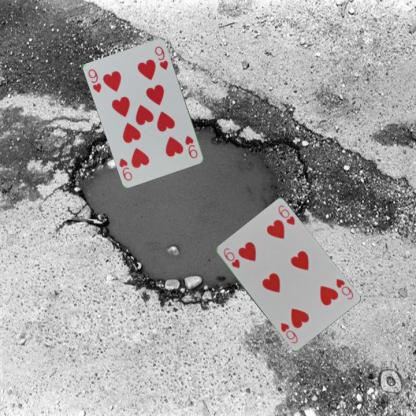6h: (333, 276, 354, 301), (221, 245, 242, 269)
9h: (85, 67, 103, 94), (182, 133, 199, 160)
